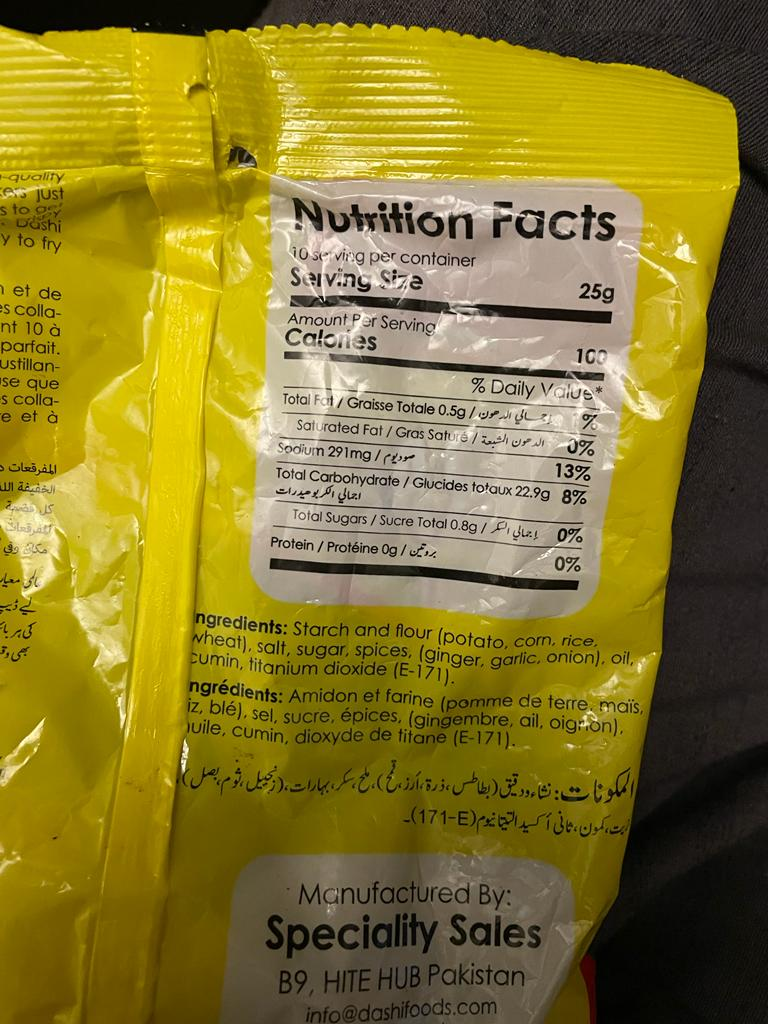table: (259, 166, 620, 618)
